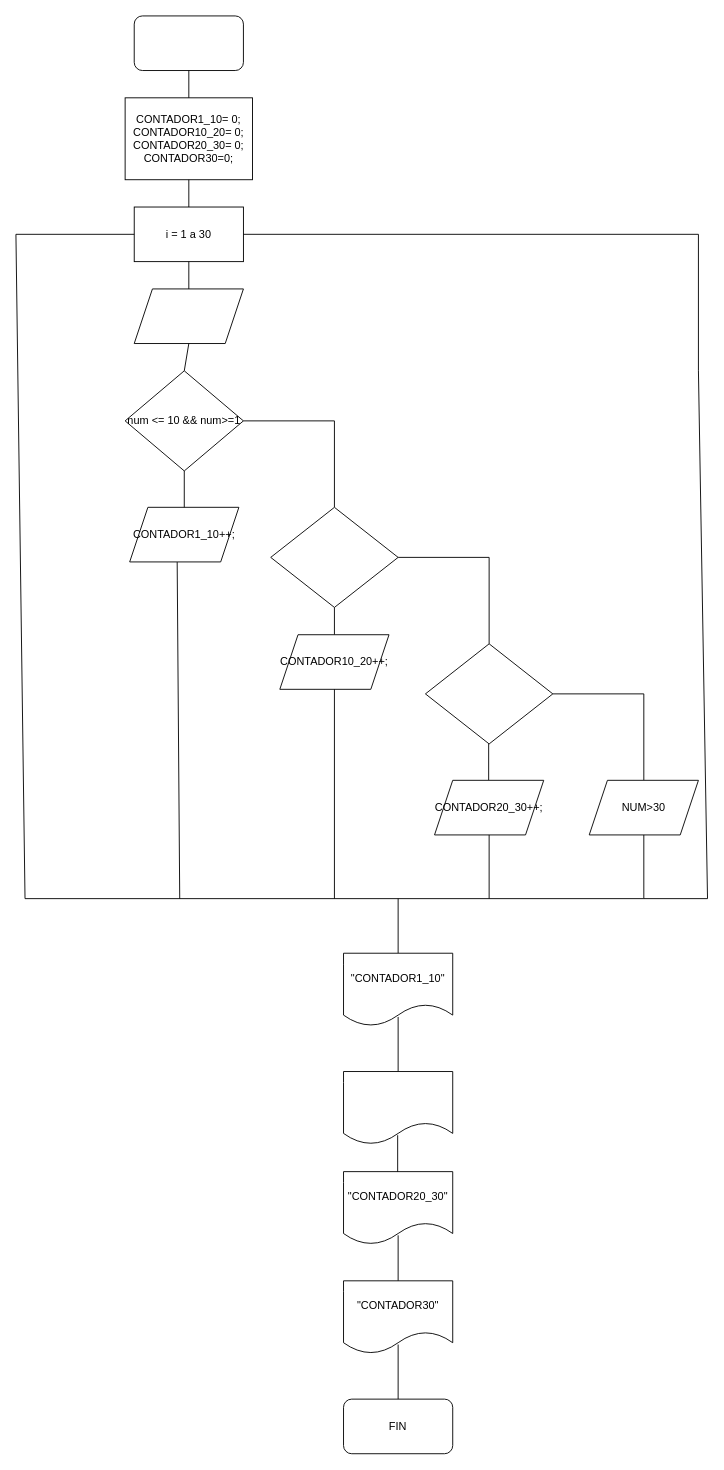
The diagram is 724 pixels wide and 1470 high, and some of its shapes have lost their labels. Each missing label, with the box of its shape:
"CONTADOR10_20": (343, 1071, 453, 1144)
INGRESAR NUM: (133, 288, 243, 344)
INICIO: (133, 15, 243, 71)
NUM<20&&NUM>10: (270, 506, 398, 607)
NUM>=20&&NUM<=30: (425, 643, 553, 744)
